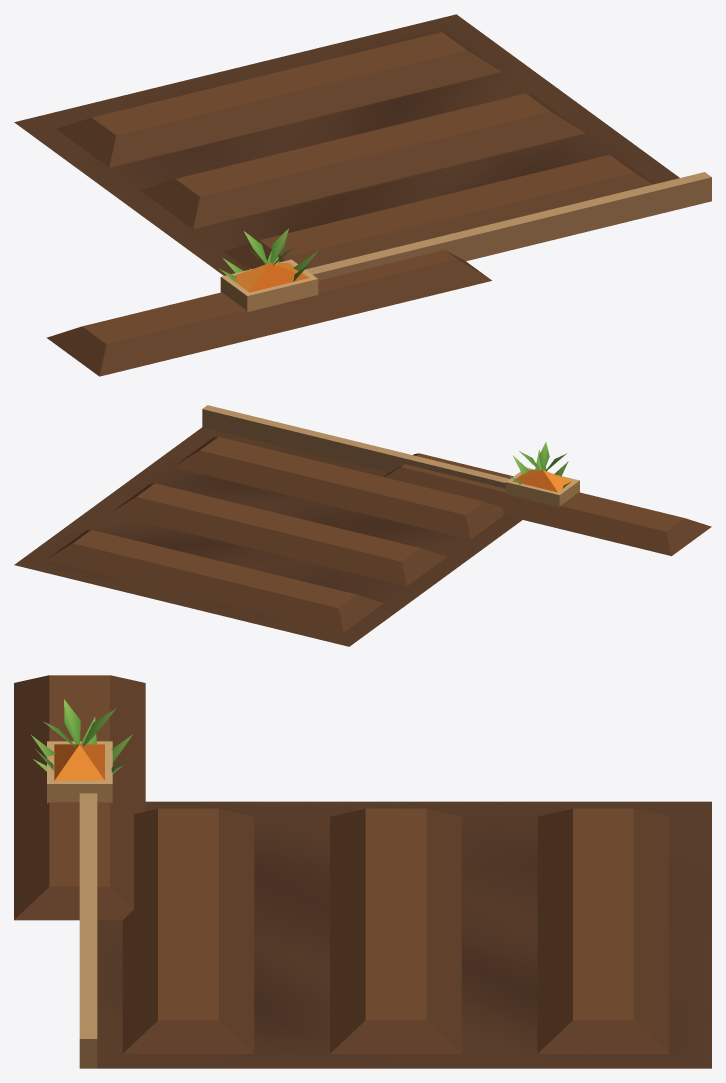
The model's file is carre-potager.glb.
3 views of the same model, one above another, from view 1: azimuth 30°, elevation 25°; view 2: azimuth 150°, elevation 25°; view 3: azimuth 270°, elevation 25° (orthographic). The views are drawn at different scales.
Visible parts, largest first — view 1: SOCLE, LOINTAIN_SOL, BUTTE, BORDURE, CAGETTE; view 2: SOCLE, LOINTAIN_SOL, BUTTE, BORDURE, CAGETTE; view 3: SOCLE, LOINTAIN_SOL, BUTTE, BORDURE, CAGETTE, TOUFFE_MURE.
Boxes of the visible parts, x1,y1,x2,y2 form: SOCLE: [14, 15, 654, 269]; LOINTAIN_SOL: [14, 14, 679, 275]; BUTTE: [46, 250, 491, 376]; BORDURE: [305, 172, 711, 280]; CAGETTE: [220, 228, 318, 311]; SOCLE: [15, 428, 521, 646]; LOINTAIN_SOL: [14, 427, 521, 646]; BUTTE: [383, 453, 711, 556]; BORDURE: [202, 405, 509, 488]; CAGETTE: [506, 442, 579, 507]; SOCLE: [97, 801, 711, 1068]; LOINTAIN_SOL: [97, 801, 711, 1068]; BUTTE: [14, 675, 145, 920]; BORDURE: [79, 793, 97, 1068]; CAGETTE: [43, 699, 116, 803]; TOUFFE_MURE: [31, 717, 132, 772].
Size of the model in its own units: 3.61 by 0.38 by 2.76.
Materials: 2 (1 with a texture image).
